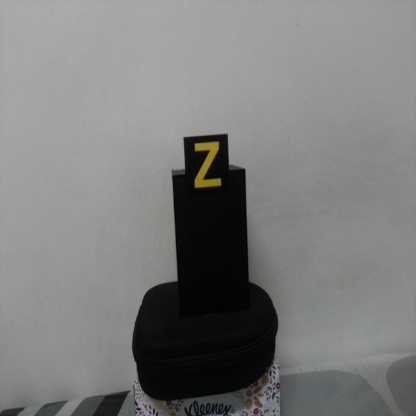id_15: (183, 136, 229, 201)
